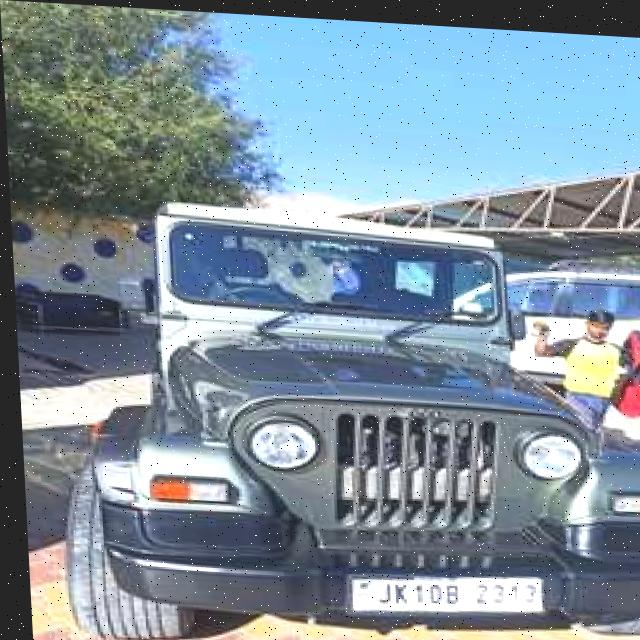plate: (339, 563, 541, 622)
